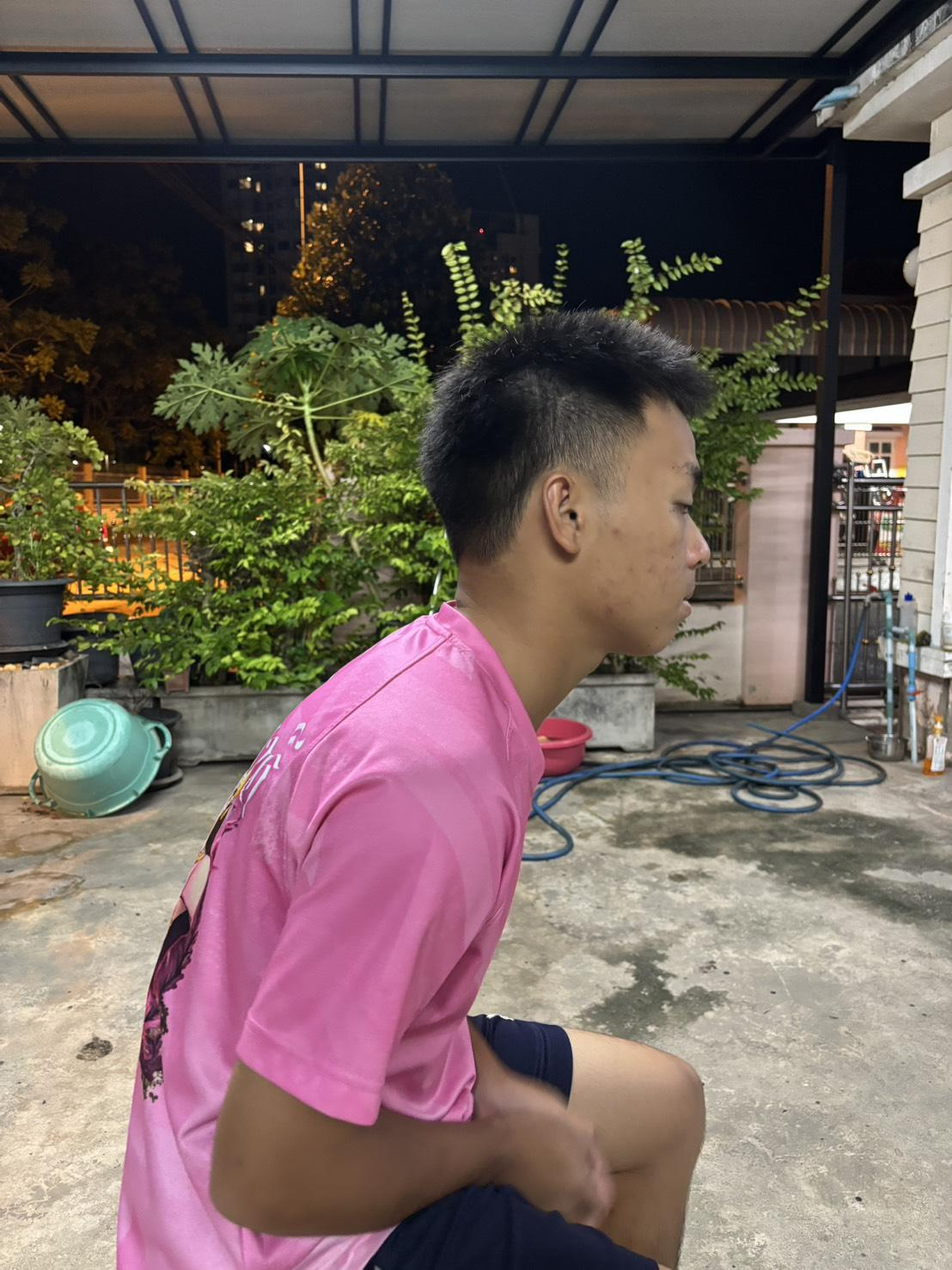BadPosture: (116, 314, 951, 1269)
